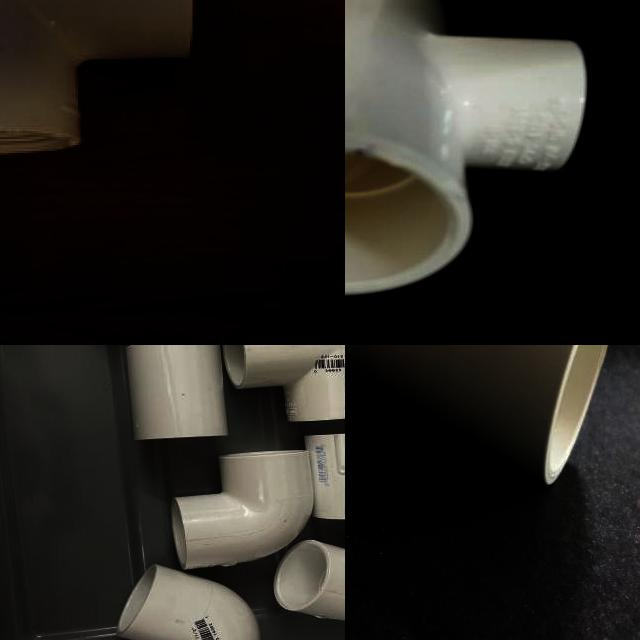L Joint: (173, 451, 314, 572), (117, 565, 258, 640), (274, 540, 345, 620)
T Joint: (345, 0, 589, 300), (222, 345, 345, 429)
